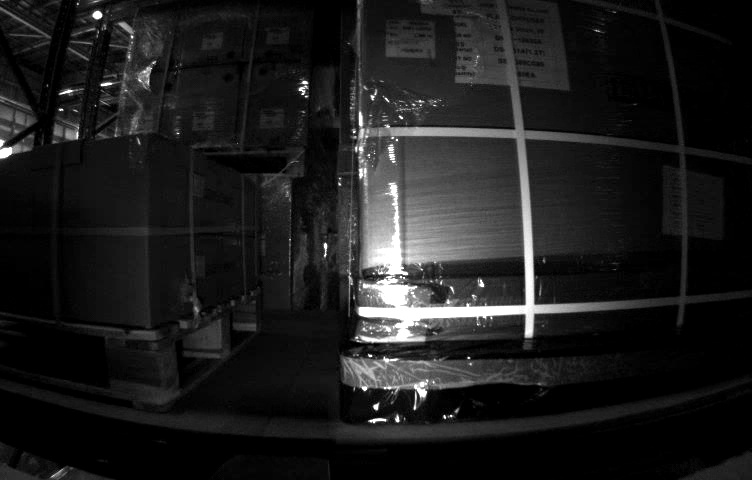True Barcode: (383, 24, 435, 61)
